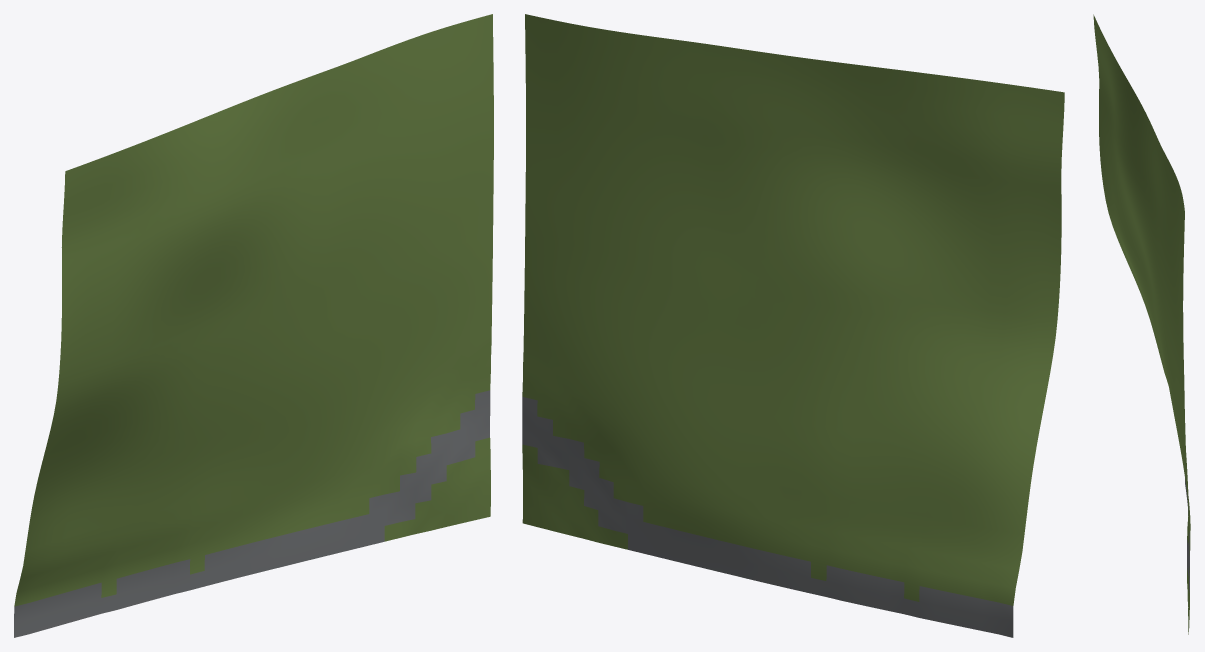
Rendered from island_terrain_04_03.obj.
3 views of the same model, side by side, from view 1: azimuth 30°, elevation 25°; view 2: azimuth 150°, elevation 25°; view 3: azimuth 270°, elevation 25° (orthographic). The views are drawn at different scales.
Parts seen in each view (by area): view 1: island_terrain_04_03; view 2: island_terrain_04_03; view 3: island_terrain_04_03.
Boxes of the visible parts, x1,y1,x2,y2 form: island_terrain_04_03: (14,14,493,637); island_terrain_04_03: (522,14,1064,637); island_terrain_04_03: (1093,14,1190,634).
Size of the model in its own units: 256 by 256 by 52.9.
